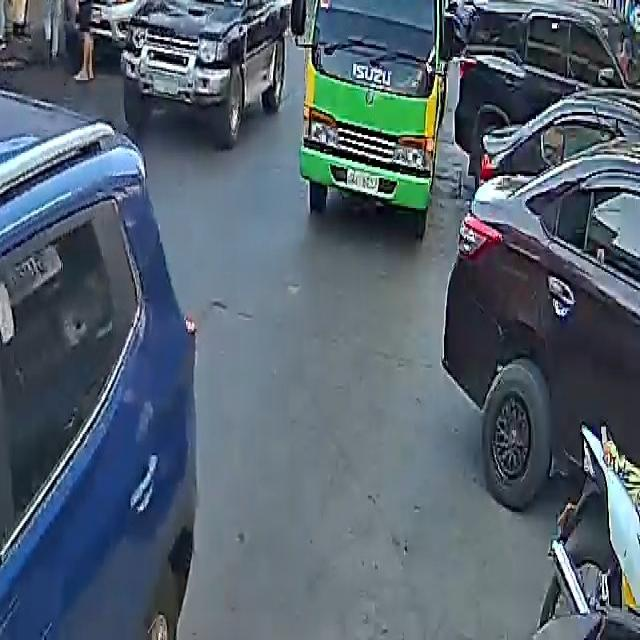car: (0, 82, 204, 640), (444, 69, 640, 530), (448, 0, 640, 153), (120, 0, 303, 140), (79, 0, 185, 46)
